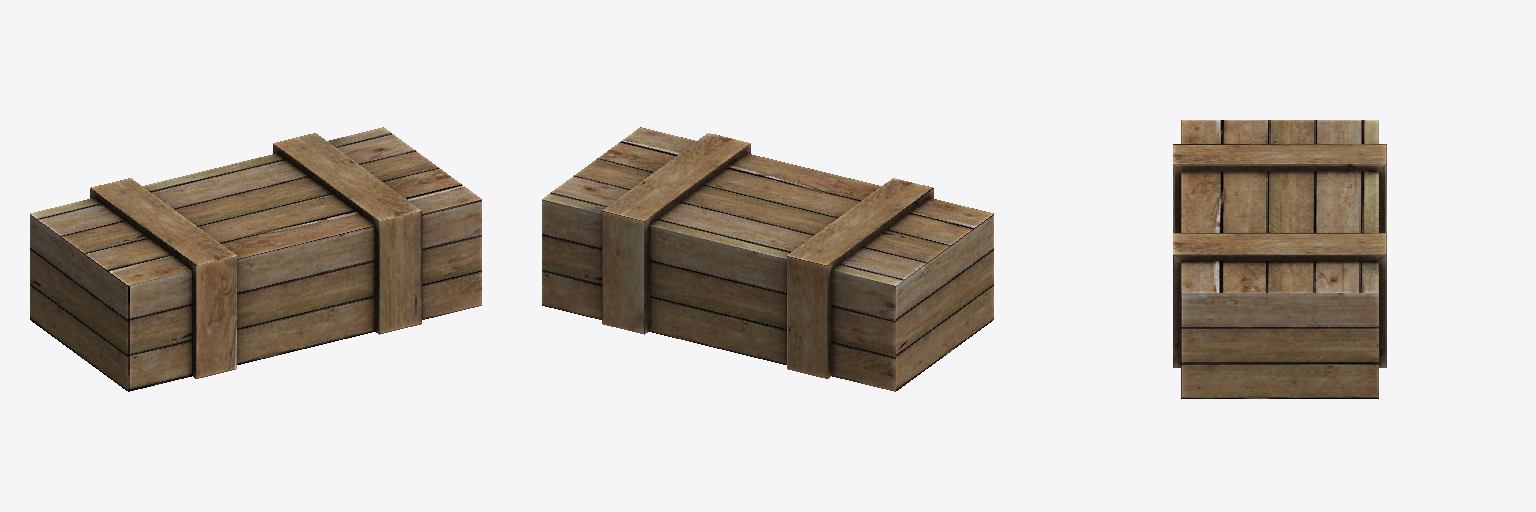
3 renders of one model, left to right at view 1: azimuth 30°, elevation 25°; view 2: azimuth 150°, elevation 25°; view 3: azimuth 270°, elevation 25°, orthographic.
Parts seen in each view (by area): view 1: amobox_Cube.001; view 2: amobox_Cube.001; view 3: amobox_Cube.001.
Part boxes in pixels (left/top/right/bottom): amobox_Cube.001: left=30, top=127, right=481, bottom=391; amobox_Cube.001: left=542, top=127, right=993, bottom=391; amobox_Cube.001: left=1173, top=120, right=1386, bottom=398.
Size of the model in its own units: 99.98 by 30.57 by 52.13.
Materials: 1 (1 with a texture image).